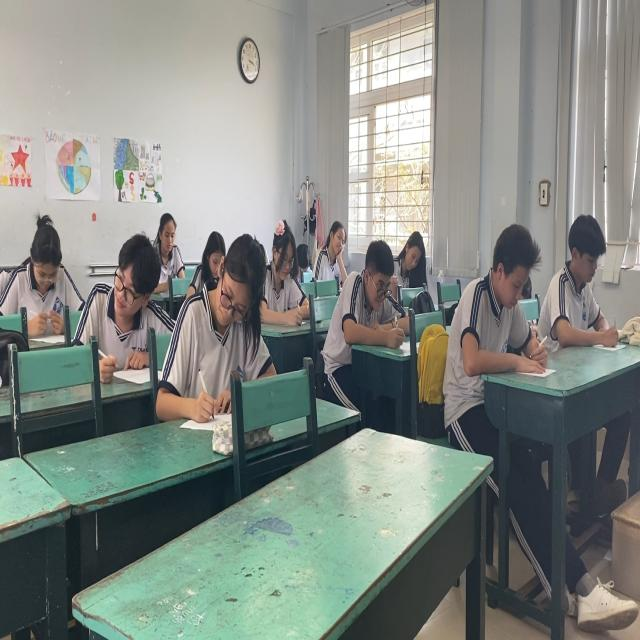cheating: (84, 233, 166, 367)
not_cheating: (442, 220, 551, 372), (187, 222, 273, 395), (545, 198, 623, 354), (8, 201, 82, 322), (333, 240, 399, 347), (261, 201, 308, 326), (312, 218, 346, 292), (156, 208, 187, 280), (396, 226, 428, 285)
